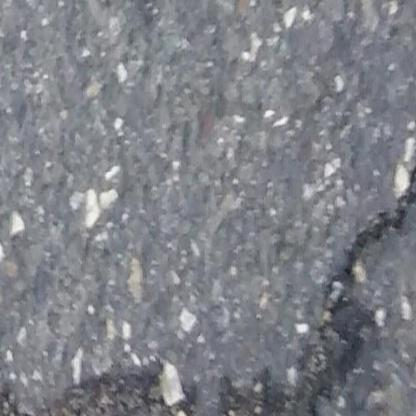Cracks: (212, 152, 416, 416), (0, 359, 206, 416)
